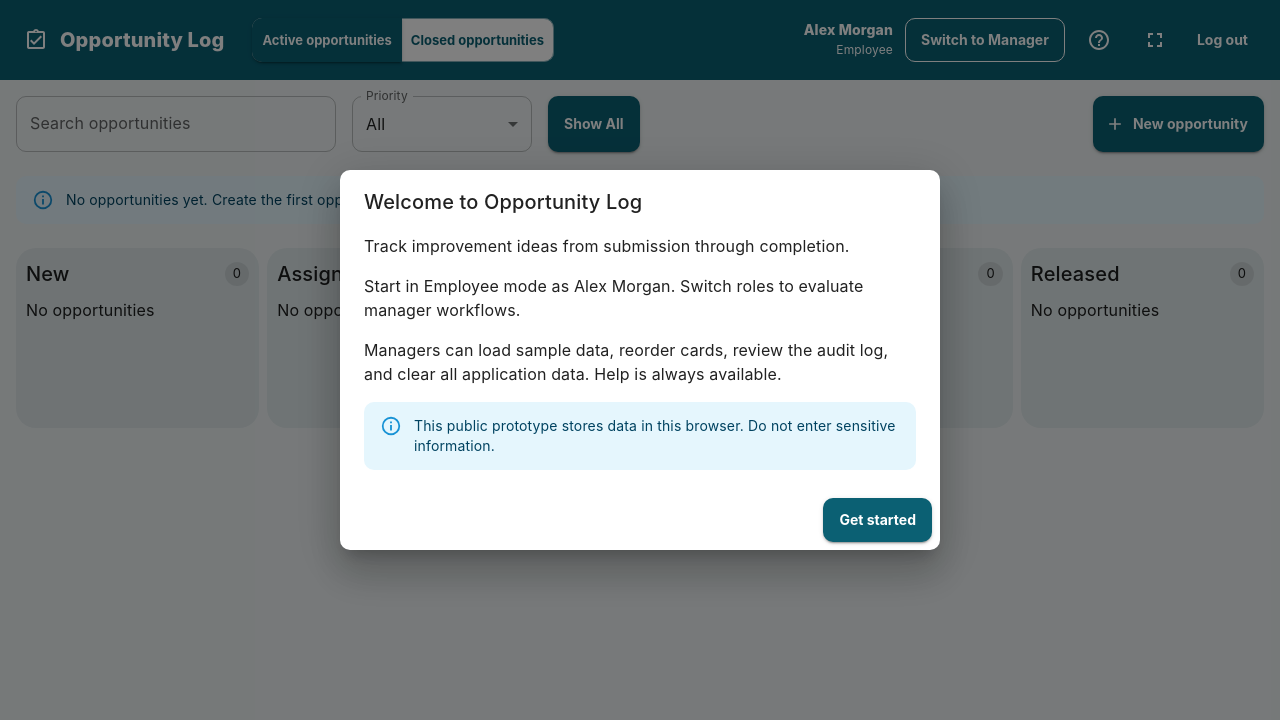
it: login and application shell › retains a session and shows the welcome only until dismissed
The width and height of the screenshot is (1280, 720).
Expected: the dialog "Welcome" is shown, [340,170,940,550]
What coordinates should you click on to do the following:
click the button "Get started"
I would click on:
 (878, 520)
Its box is [823,498,932,542].
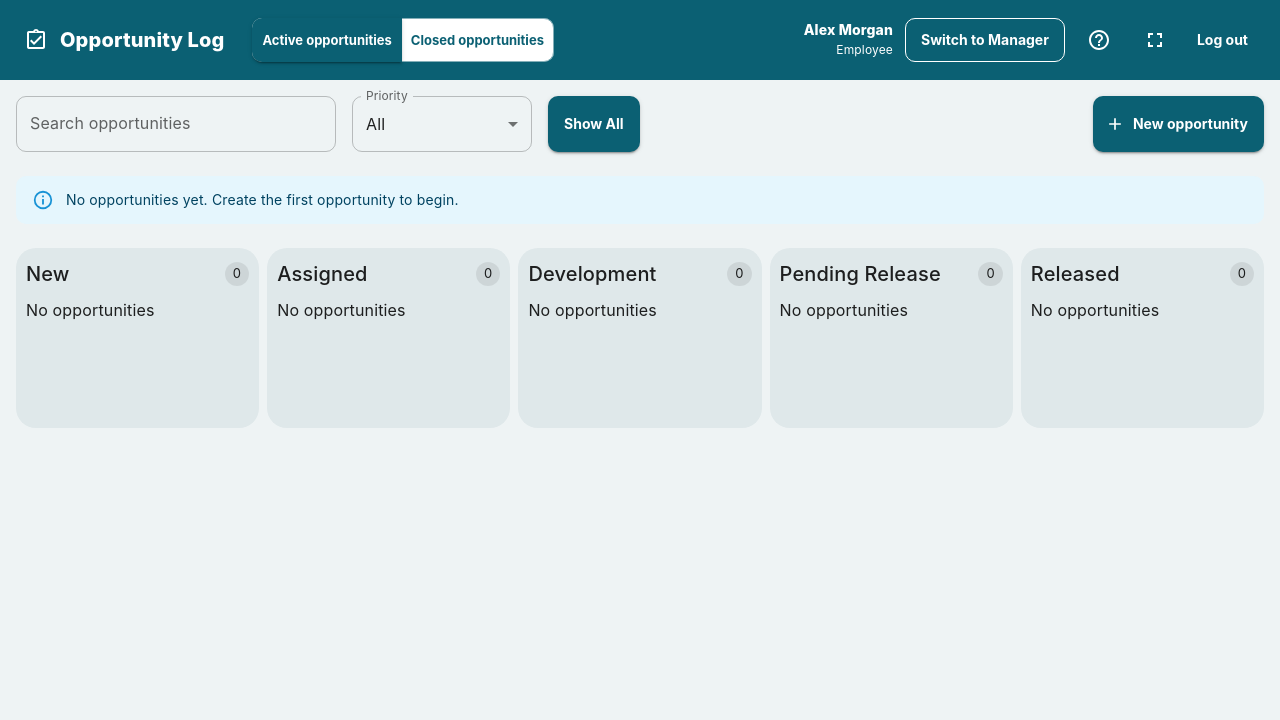
Result: the heading "Welcome" is gone
